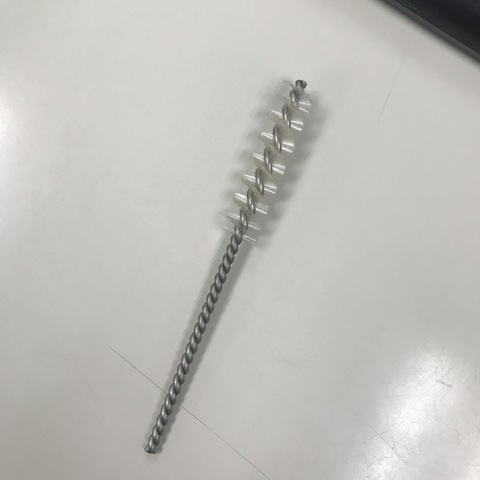Twist Brush-B: (142, 78, 324, 455)
